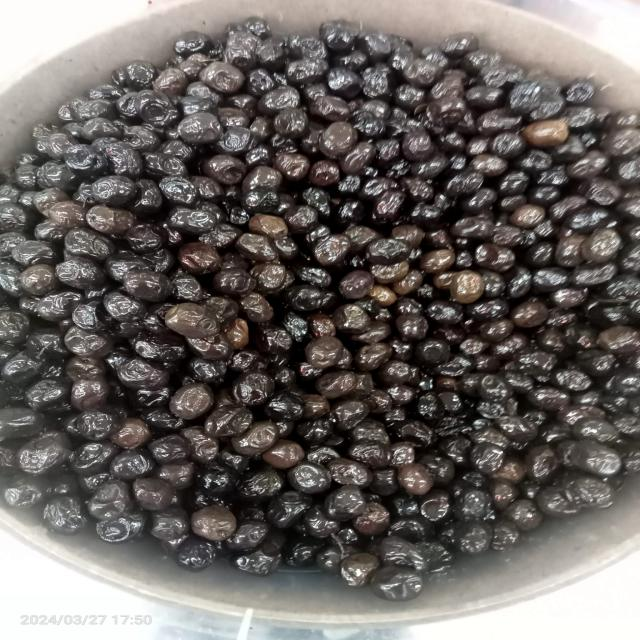olive: (276, 382, 434, 451), (157, 299, 231, 340), (107, 269, 181, 305), (286, 454, 342, 499), (180, 505, 244, 544), (167, 376, 218, 423), (389, 458, 444, 501), (353, 333, 403, 376), (450, 266, 492, 312), (174, 236, 222, 276), (466, 434, 508, 478), (67, 377, 111, 414)
